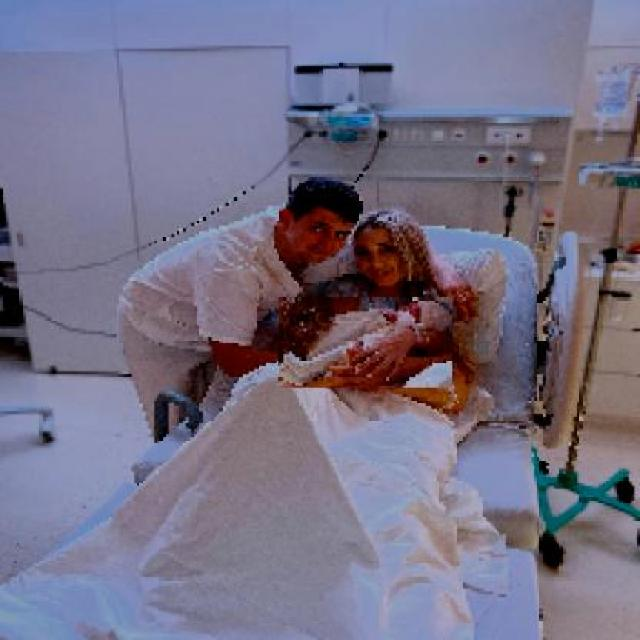child: (277, 297, 452, 389)
